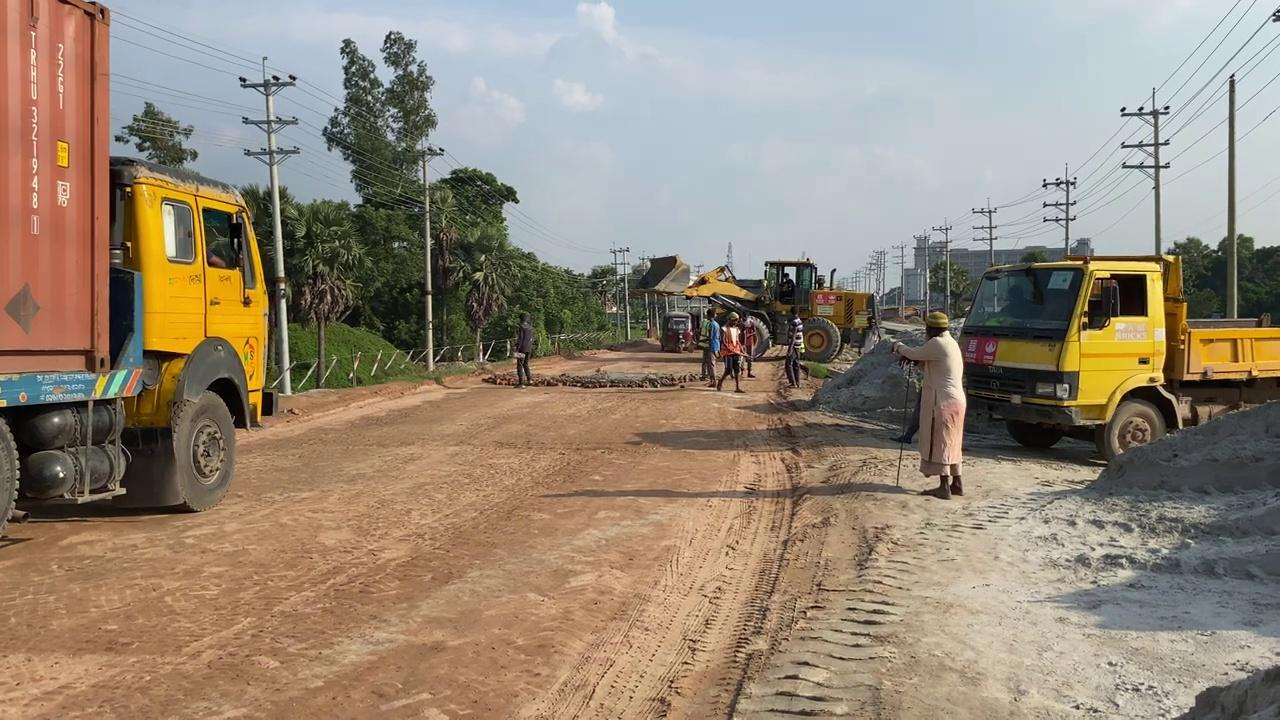Garbage: (481, 367, 706, 388)
Muddy road: (2, 364, 1277, 718)
Pole: (237, 55, 301, 395), (1225, 71, 1238, 318)
Traffic-sign: (278, 197, 371, 387), (447, 222, 522, 361), (112, 99, 198, 169)
Tree: (0, 0, 273, 536), (956, 248, 1279, 462), (681, 255, 881, 363), (658, 263, 771, 357), (659, 310, 694, 353)
